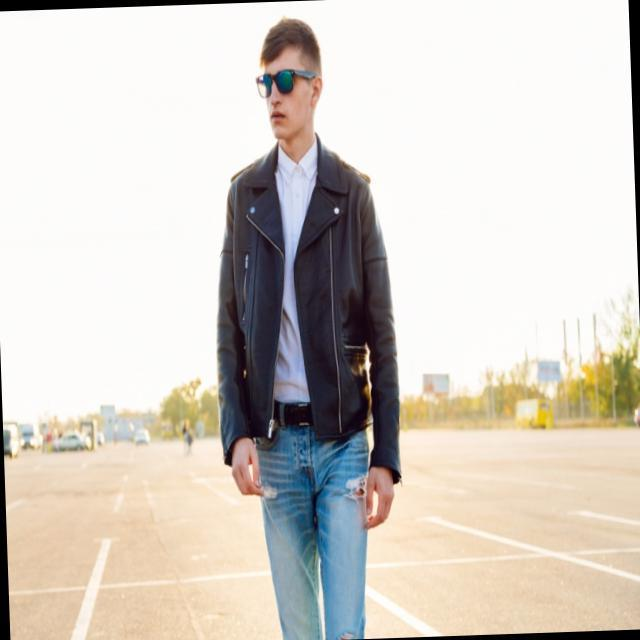jacket: (217, 131, 406, 482)
short sleeve shirt: (269, 138, 325, 421)
trousers: (252, 408, 375, 640)
